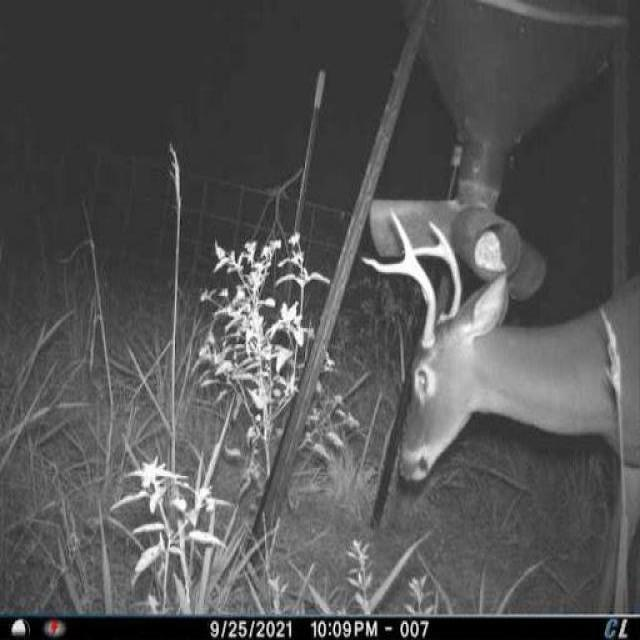deer: (356, 199, 640, 621)
